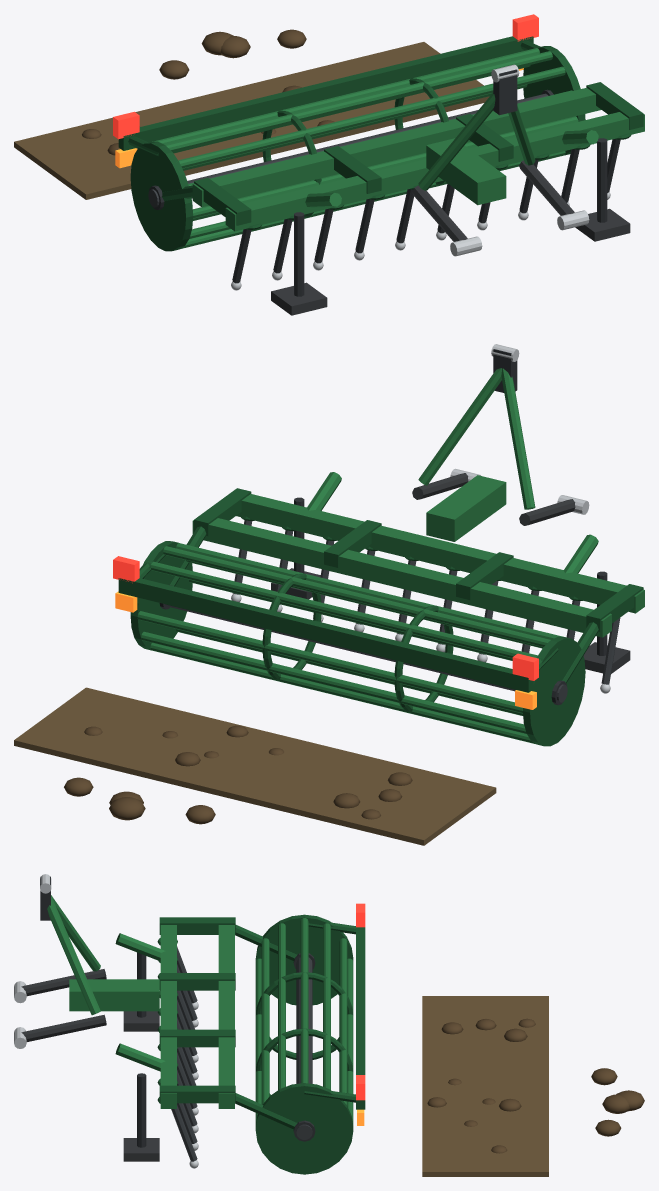
File: crumbler.glb
The picture shows the model from 3 angles, top to bottom: view 1: azimuth 30°, elevation 25°; view 2: azimuth 150°, elevation 25°; view 3: azimuth 270°, elevation 25°; orthographic projection. The views are drawn at different scales.
Parts seen in each view (by area): view 1: CrumblerBody, CageRoller, CrumblerProps; view 2: CrumblerBody, CrumblerProps, CageRoller; view 3: CrumblerBody, CrumblerProps, CageRoller.
Boxes of the visible parts, x1=… form: CrumblerBody: x1=113, y1=14, x2=644, y2=315; CageRoller: x1=130, y1=46, x2=585, y2=251; CrumblerProps: x1=14, y1=29, x2=489, y2=199; CrumblerBody: x1=113, y1=344, x2=644, y2=709; CrumblerProps: x1=14, y1=687, x2=496, y2=845; CageRoller: x1=130, y1=541, x2=585, y2=746; CrumblerBody: x1=14, y1=874, x2=365, y2=1168; CrumblerProps: x1=422, y1=996, x2=644, y2=1176; CageRoller: x1=255, y1=914, x2=353, y2=1174.
Size of the model in its own units: 2.36 by 1.28 by 3.49.
